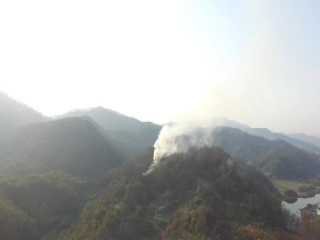smoke: (141, 122, 216, 174)
